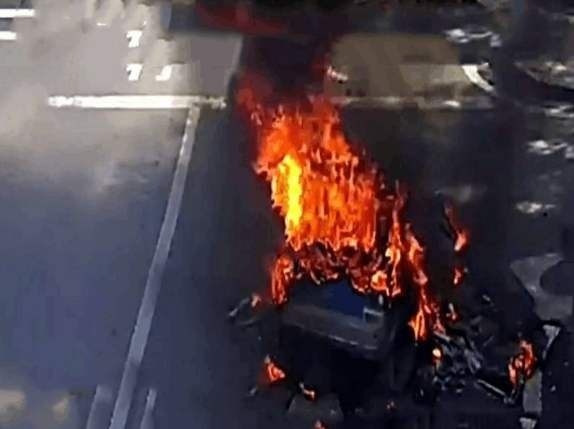fire: (235, 62, 480, 340), (504, 336, 536, 383)
